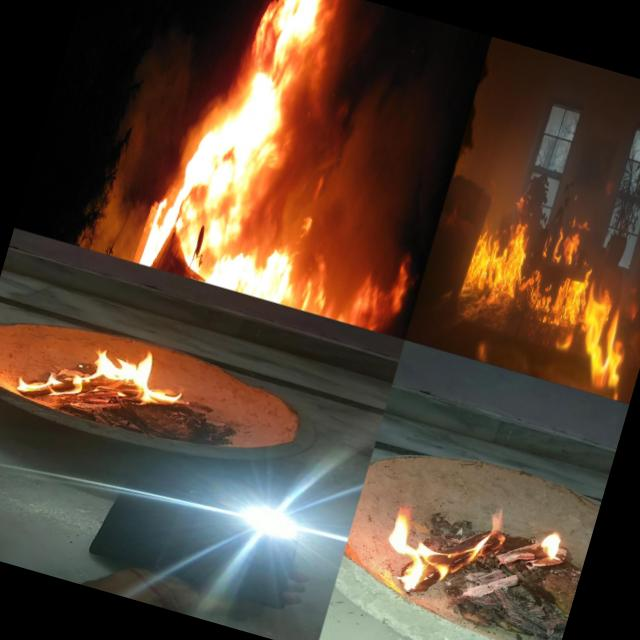fire: (117, 0, 480, 337), (447, 207, 640, 399), (14, 326, 202, 438), (372, 479, 512, 614), (524, 522, 578, 571)
